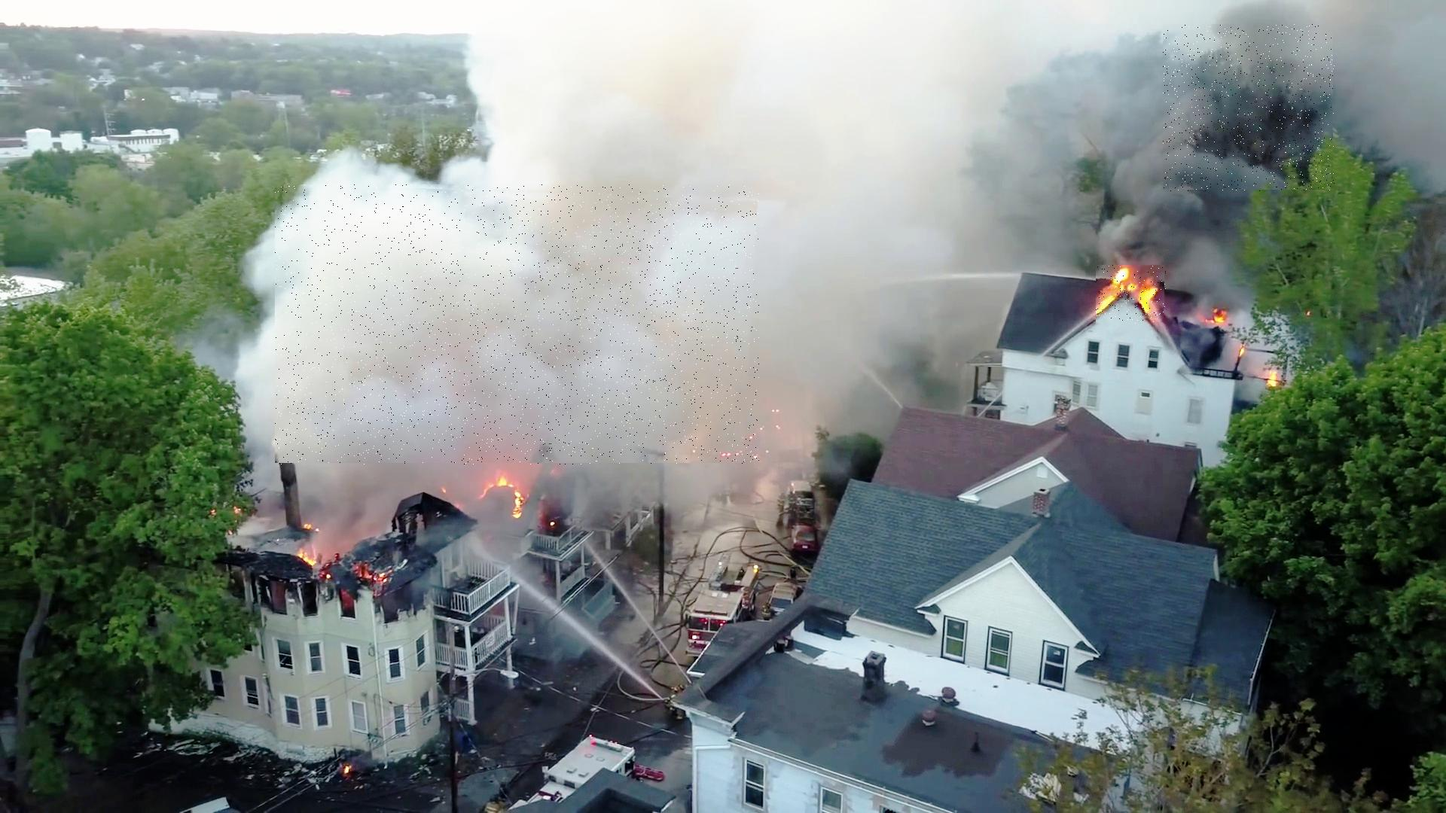fire: (1096, 266, 1166, 324)
smoke: (275, 185, 760, 465), (1163, 25, 1335, 192)
